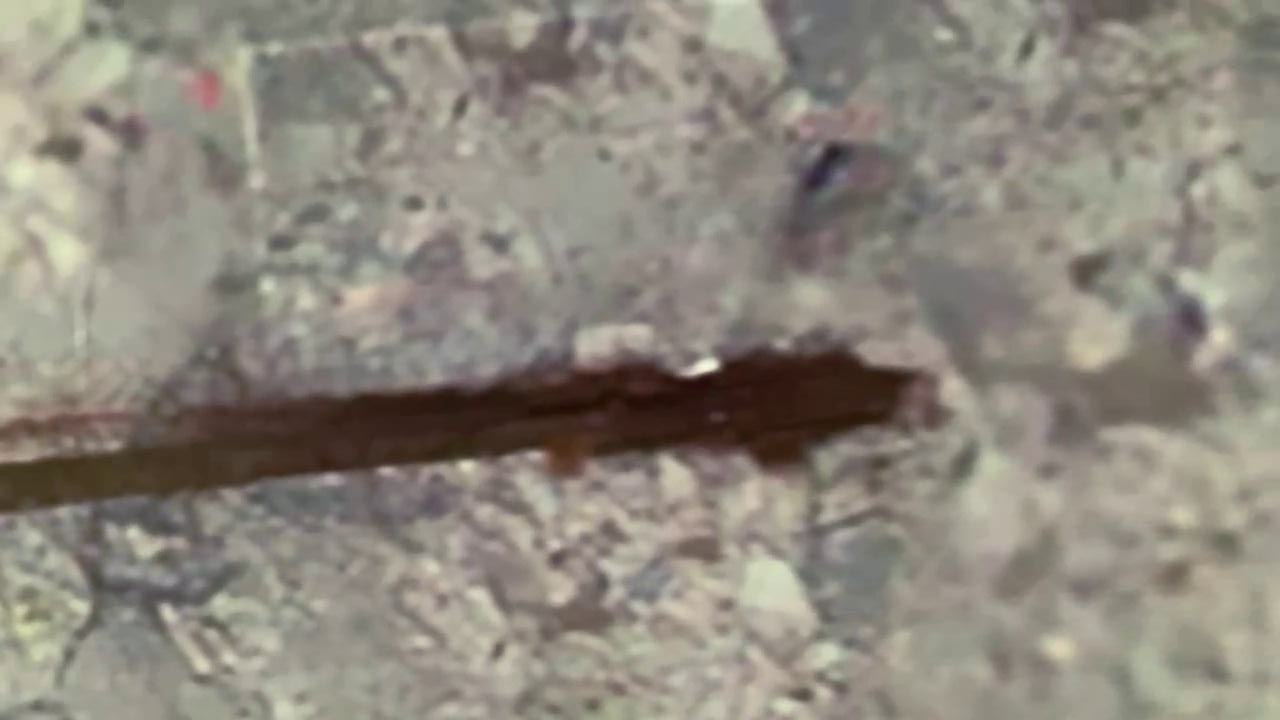Exposed reinforcement: (1, 341, 925, 518)
